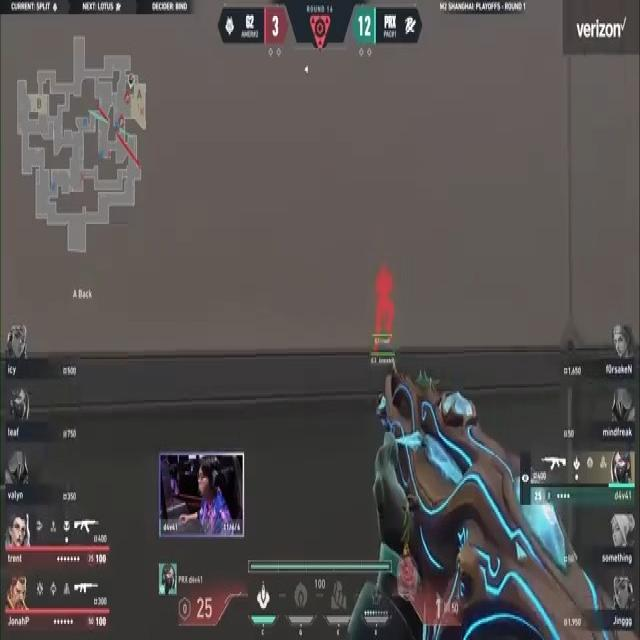enemy behind wall: (366, 255, 399, 361)
